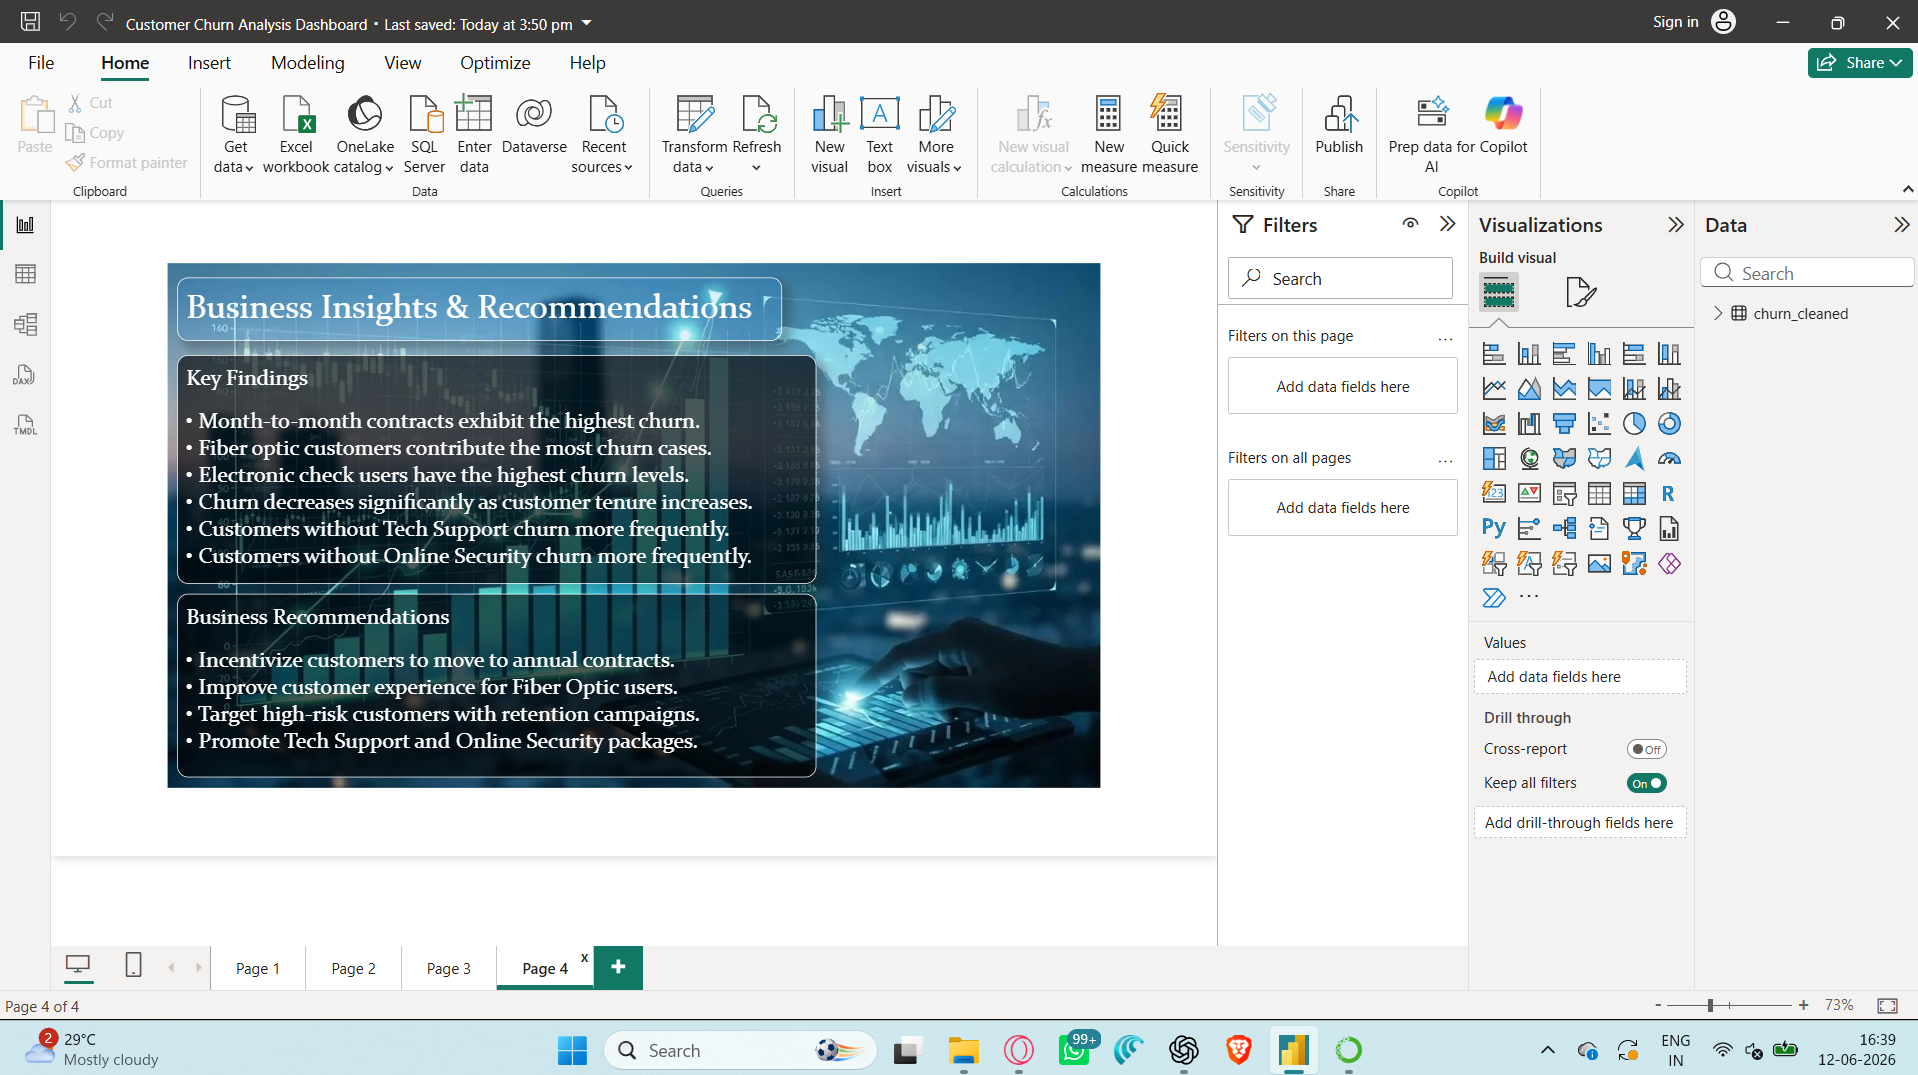

This screenshot's page, from the dashboard's own definition file:
{"tool":"powerbi","page":{"name":"Page 4","canvas":[1280,720],"ordinal":3},"visuals":[{"type":"textbox","box":[138.6,85.1,664.2,70],"z":5000},{"type":"textbox","box":[138.6,170.2,701.2,251.1],"z":5001},{"type":"textbox","box":[138.6,432.2,701.2,201.7],"z":5002}]}

Visuals, with their boxes on the page's 1280x720 design canvas (x1, y1, x2, y2). These are canvas units, not pixel positions in the 1918x1075 screenshot, which may show the page scaled, cropped or inside an application window:
textbox: locate(139, 85, 803, 155)
textbox: locate(139, 170, 840, 421)
textbox: locate(139, 432, 840, 634)
